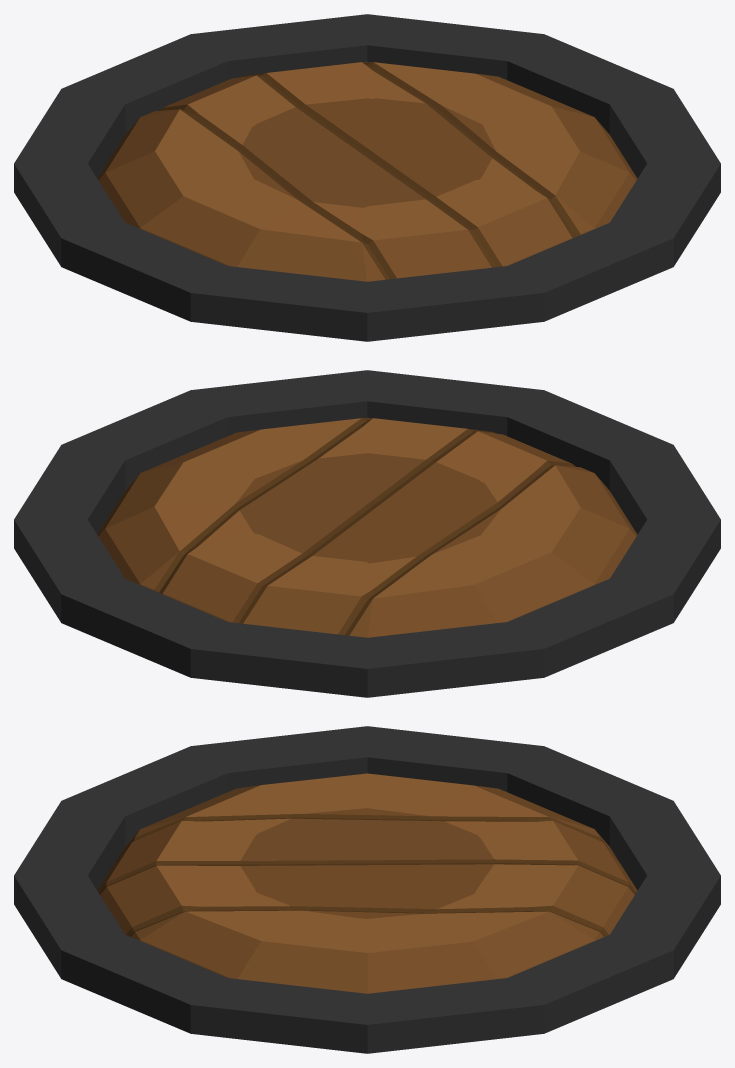
File: F_Shield_C_Wood.fbx
The picture shows the model from 3 angles, top to bottom: view 1: azimuth 30°, elevation 25°; view 2: azimuth 150°, elevation 25°; view 3: azimuth 270°, elevation 25°; orthographic projection.
Visible parts, largest first — view 1: F_Shield_C_Wood; view 2: F_Shield_C_Wood; view 3: F_Shield_C_Wood.
Boxes of the visible parts, box(x1,y1,x2,y2) form: F_Shield_C_Wood: box(14, 14, 720, 341); F_Shield_C_Wood: box(14, 370, 720, 697); F_Shield_C_Wood: box(14, 726, 720, 1053).
Size of the model in its own units: 75.7 by 7.63 by 75.7.
